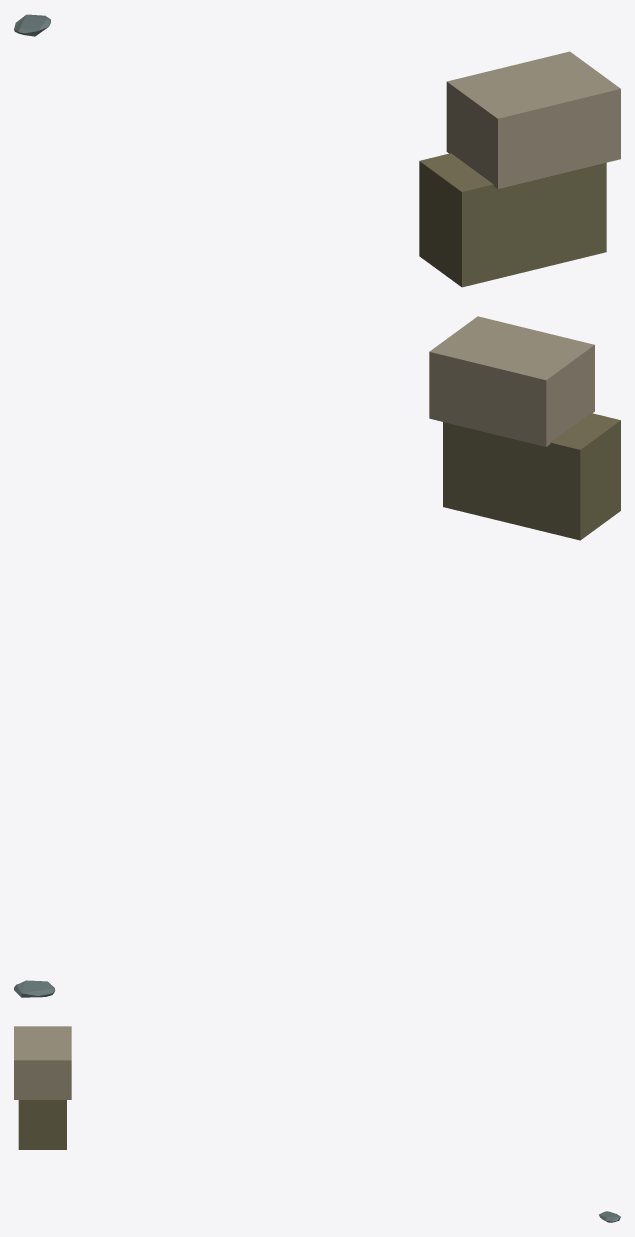
3 renders of one model, top to bottom at view 1: azimuth 30°, elevation 25°; view 2: azimuth 150°, elevation 25°; view 3: azimuth 270°, elevation 25°, orthographic. The views are drawn at different scales.
Parts seen in each view (by area): view 1: Box964_rock2_0, Box965_wall3_0, Box877_rock_0; view 2: Box964_rock2_0, Box965_wall3_0; view 3: Box965_wall3_0, Box964_rock2_0.
Boxes of the visible parts, left/top/right/bottom form: Box964_rock2_0: left=419, top=153, right=606, bottom=287; Box965_wall3_0: left=446, top=51, right=620, bottom=188; Box877_rock_0: left=14, top=14, right=50, bottom=36; Box964_rock2_0: left=443, top=413, right=620, bottom=540; Box965_wall3_0: left=429, top=316, right=594, bottom=446; Box965_wall3_0: left=14, top=1026, right=71, bottom=1099; Box964_rock2_0: left=18, top=1100, right=66, bottom=1149.
Size of the model in its own units: 639 by 1228 by 3840.
